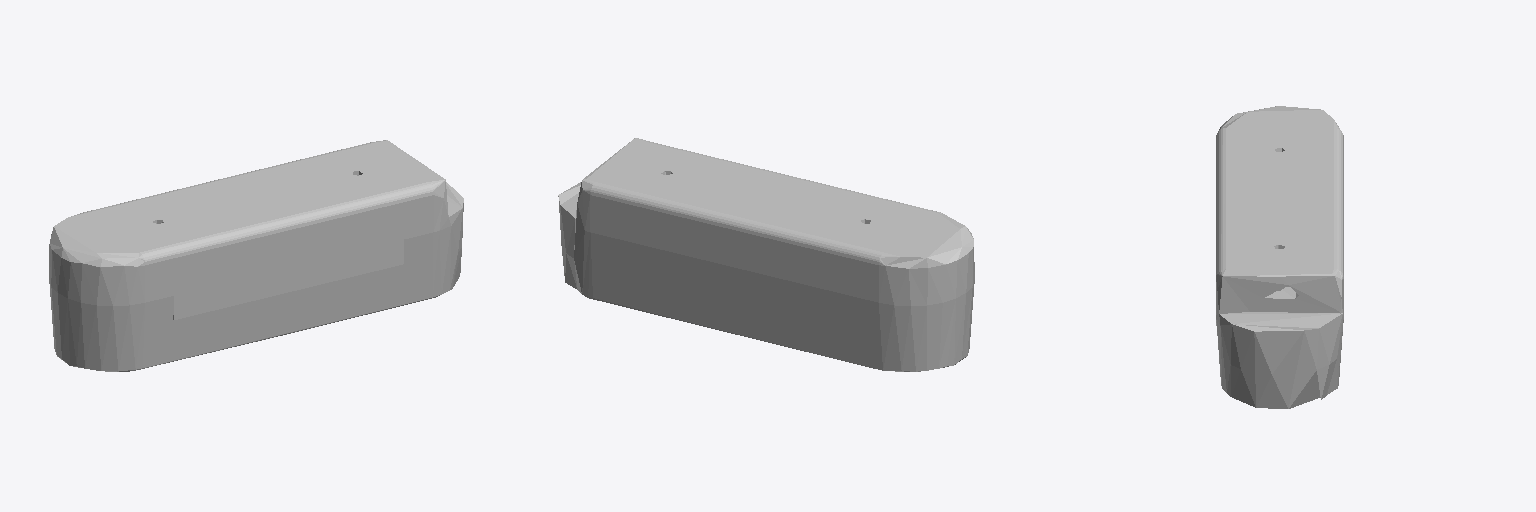
Rendered from dual_rm_75b_description_head_link2_collisions_camera_link_mesh.obj.
3 renders of one model, left to right at view 1: azimuth 30°, elevation 25°; view 2: azimuth 150°, elevation 25°; view 3: azimuth 270°, elevation 25°, orthographic.
Bounding box in the file's own units: 0.0894 × 0.0251 × 0.025.